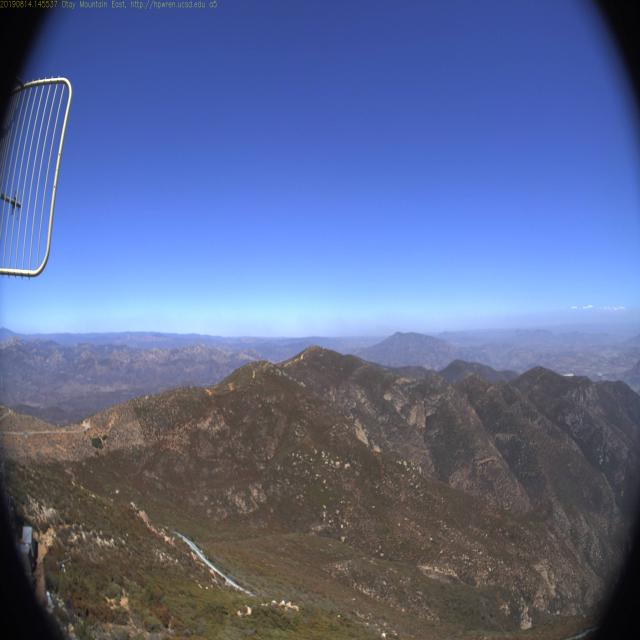smoke: (485, 347, 499, 371)
